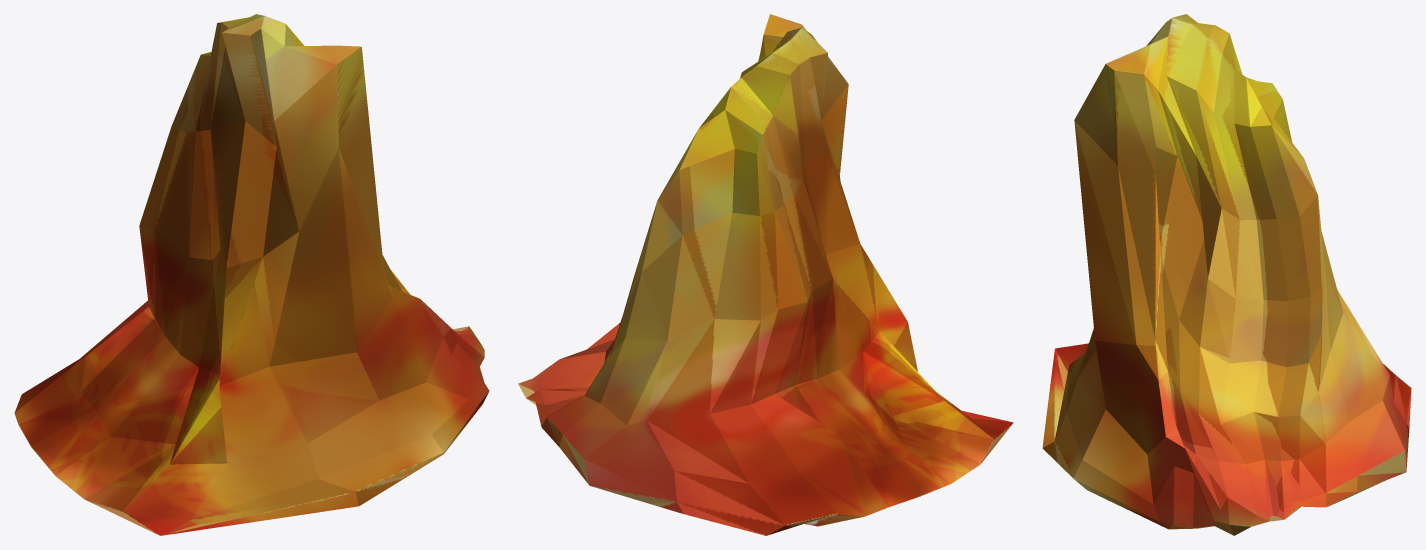
Rendered from mountain2.fbx.
3 renders of one model, left to right at view 1: azimuth 30°, elevation 25°; view 2: azimuth 150°, elevation 25°; view 3: azimuth 270°, elevation 25°, orthographic. The views are drawn at different scales.
Visible parts, largest first — view 1: Cube; view 2: Cube; view 3: Cube.
Part boxes in pixels (box(x1,y1,x2,y2)): Cube: box(14, 14, 489, 535); Cube: box(518, 14, 1013, 535); Cube: box(1042, 14, 1411, 535).
Size of the model in its own units: 709 by 685 by 543.
